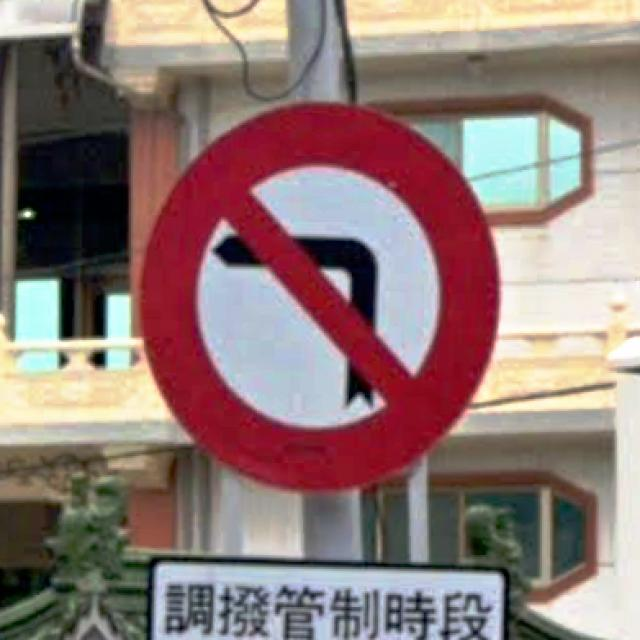noturnleft: (134, 96, 503, 494)
